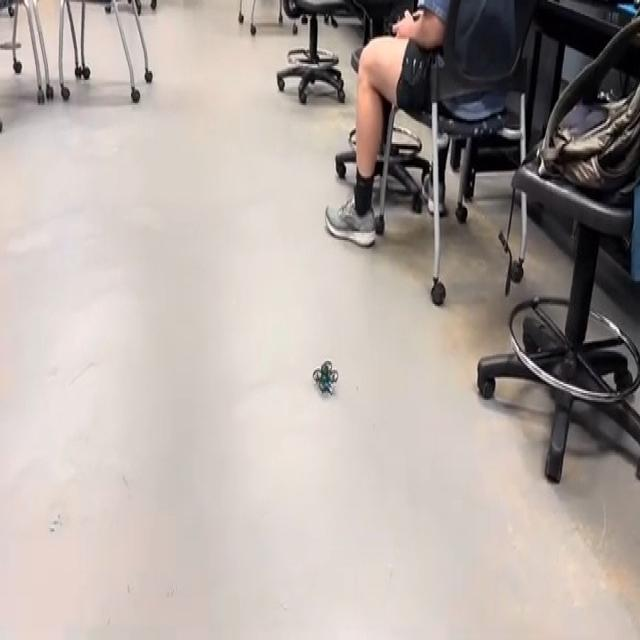drone: (307, 346, 349, 406)
